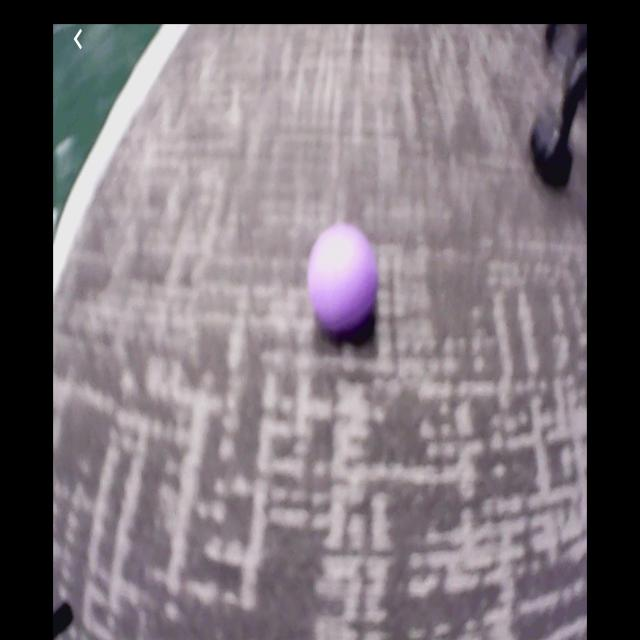ball: (310, 225, 379, 333)
